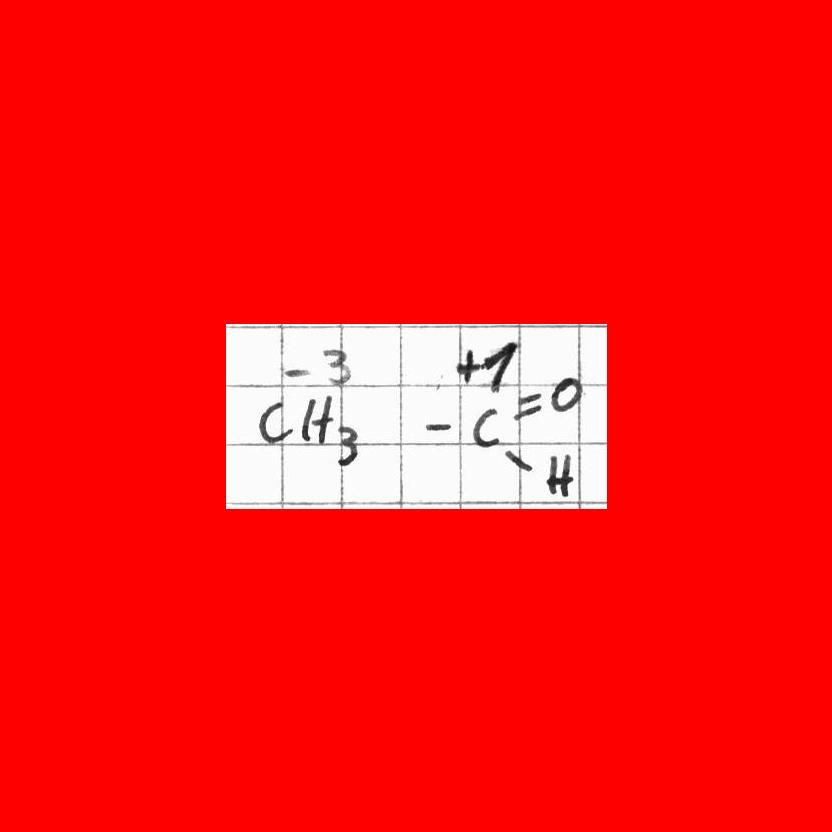Char: (482, 335, 517, 397), (255, 395, 297, 446), (541, 447, 579, 500), (547, 370, 586, 420), (319, 343, 359, 389), (301, 391, 333, 447), (468, 403, 504, 450), (498, 442, 536, 478), (452, 342, 481, 387), (511, 388, 545, 422), (336, 421, 362, 465), (281, 360, 313, 383), (423, 418, 457, 438)
